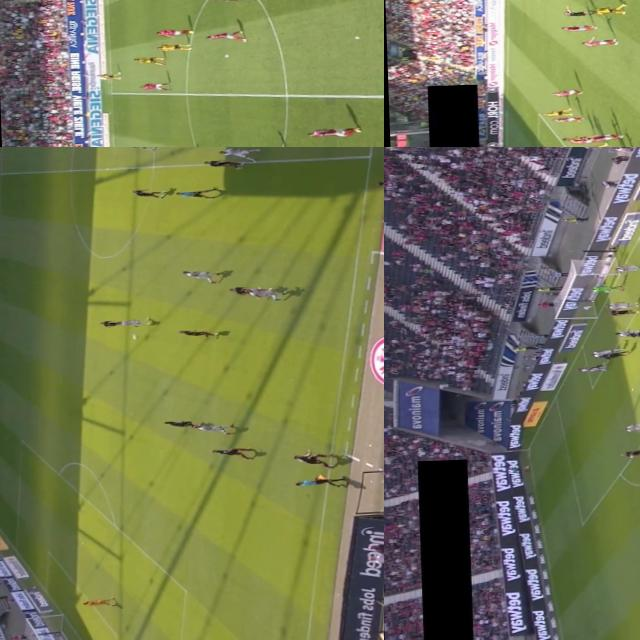ball: (126, 332, 140, 341), (352, 36, 362, 40), (220, 54, 228, 57)
player: (286, 452, 334, 469), (215, 147, 262, 162), (202, 29, 246, 45), (306, 126, 362, 138), (191, 422, 235, 437), (243, 286, 289, 300), (178, 269, 220, 284), (202, 156, 244, 170), (174, 328, 220, 340), (223, 284, 265, 297), (126, 188, 168, 200), (208, 446, 250, 458), (588, 4, 626, 16), (556, 23, 594, 34), (113, 318, 154, 328), (153, 29, 195, 38), (580, 37, 614, 48), (586, 131, 620, 142), (537, 109, 577, 118), (160, 419, 197, 428), (138, 82, 168, 93), (96, 319, 130, 328), (546, 116, 584, 124), (133, 56, 161, 66), (156, 44, 190, 52), (600, 350, 630, 359), (564, 137, 602, 144), (590, 348, 622, 356), (605, 301, 640, 308), (618, 446, 640, 457), (588, 285, 622, 292), (548, 90, 582, 96), (606, 310, 640, 316), (615, 263, 640, 271), (96, 73, 120, 80), (121, 147, 154, 152), (578, 366, 604, 372), (615, 330, 640, 336), (624, 420, 640, 429), (626, 329, 640, 338)
